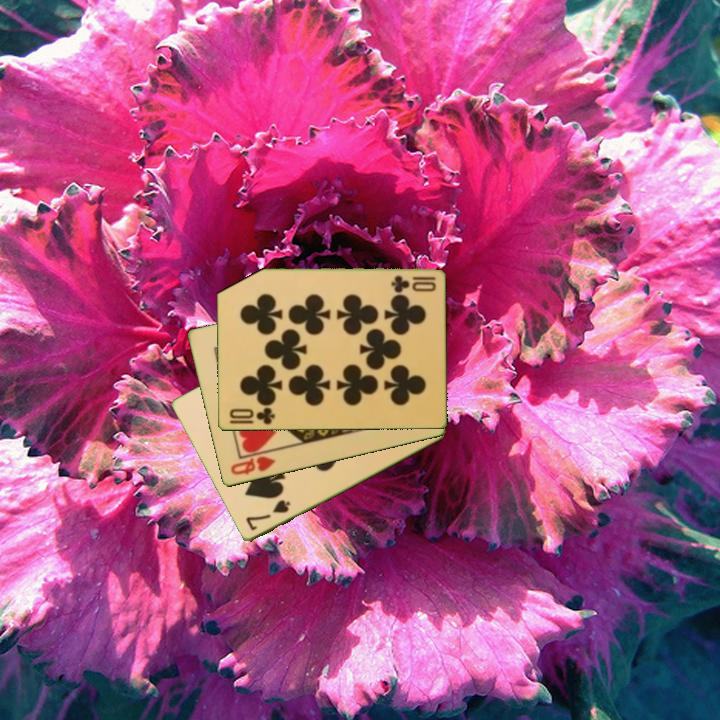10c: (226, 404, 277, 428), (387, 273, 439, 294)
7s: (242, 496, 293, 534)
Qh: (227, 453, 278, 478)
